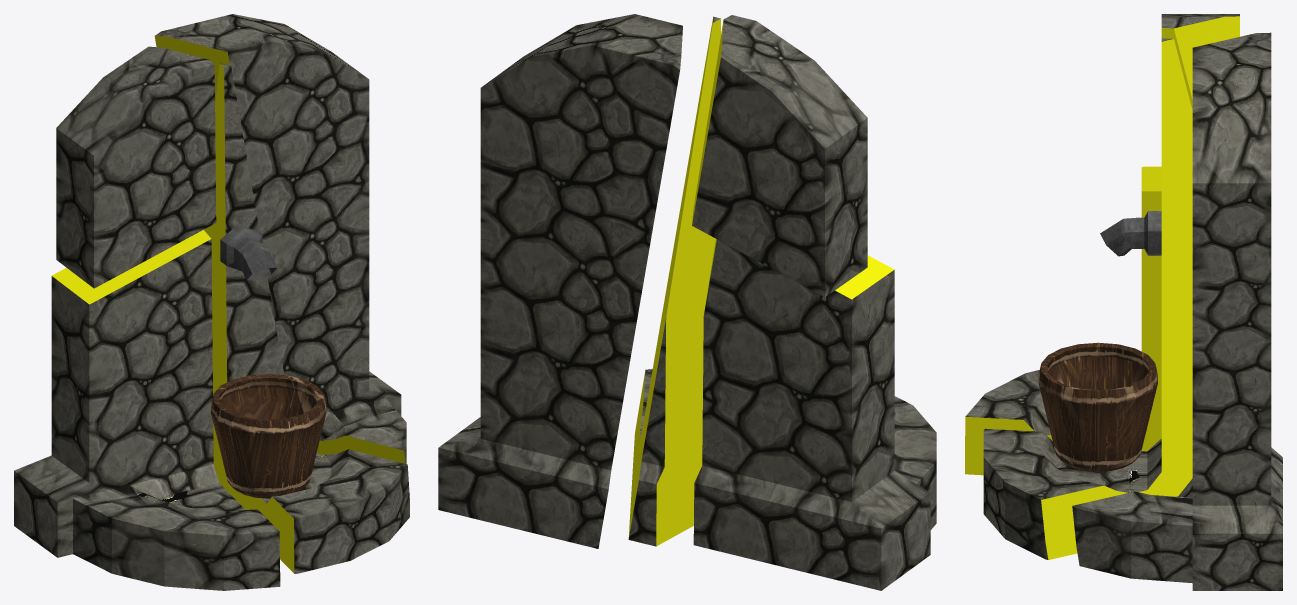
The model's file is fuenteRota.obj.
The picture shows the model from 3 angles, left to right: view 1: azimuth 30°, elevation 25°; view 2: azimuth 150°, elevation 25°; view 3: azimuth 270°, elevation 25°; orthographic projection. The views are drawn at different scales.
Visible parts, largest first — view 1: fuente_rota:polySurface10 fuente_rota:shard4 fuente_rota:solidSh, fuente_rota:polySurface10 fuente_rota:shard1 fuente_rota:solidSh, fuente_rota:polySurface10 fuente_rota:shard3 fuente_rota:solidSh, fuente_rota:polySurface10 fuente_rota:shard2 fuente_rota:solidSh, fuente_rota:polySurface10 fuente_rota:polySurface14 fuente_rota:, fuente_rota:polySurface10 fuente_rota:polySurface15 fuente_rota:; view 2: fuente_rota:polySurface10 fuente_rota:shard1 fuente_rota:solidSh, fuente_rota:polySurface10 fuente_rota:shard4 fuente_rota:solidSh, fuente_rota:polySurface10 fuente_rota:shard3 fuente_rota:solidSh, fuente_rota:polySurface10 fuente_rota:shard2 fuente_rota:solidSh; view 3: fuente_rota:polySurface10 fuente_rota:shard1 fuente_rota:solidSh, fuente_rota:polySurface10 fuente_rota:shard2 fuente_rota:solidSh, fuente_rota:polySurface10 fuente_rota:polySurface14 fuente_rota:, fuente_rota:polySurface10 fuente_rota:shard4 fuente_rota:solidSh, fuente_rota:polySurface10 fuente_rota:shard3 fuente_rota:solidSh, fuente_rota:polySurface10 fuente_rota:polySurface15 fuente_rota:.
Boxes of the visible parts, bbox=[...] form: fuente_rota:polySurface10 fuente_rota:shard4 fuente_rota:solidSh: bbox=[14, 230, 280, 590]; fuente_rota:polySurface10 fuente_rota:shard1 fuente_rota:solidSh: bbox=[154, 14, 406, 463]; fuente_rota:polySurface10 fuente_rota:shard3 fuente_rota:solidSh: bbox=[56, 46, 216, 288]; fuente_rota:polySurface10 fuente_rota:shard2 fuente_rota:solidSh: bbox=[204, 63, 409, 573]; fuente_rota:polySurface10 fuente_rota:polySurface14 fuente_rota:: bbox=[211, 374, 326, 498]; fuente_rota:polySurface10 fuente_rota:polySurface15 fuente_rota:: bbox=[220, 224, 277, 280]; fuente_rota:polySurface10 fuente_rota:shard1 fuente_rota:solidSh: bbox=[438, 14, 682, 548]; fuente_rota:polySurface10 fuente_rota:shard4 fuente_rota:solidSh: bbox=[693, 239, 936, 590]; fuente_rota:polySurface10 fuente_rota:shard3 fuente_rota:solidSh: bbox=[692, 15, 867, 296]; fuente_rota:polySurface10 fuente_rota:shard2 fuente_rota:solidSh: bbox=[628, 16, 720, 546]; fuente_rota:polySurface10 fuente_rota:shard1 fuente_rota:solidSh: bbox=[1072, 32, 1282, 590]; fuente_rota:polySurface10 fuente_rota:shard2 fuente_rota:solidSh: bbox=[983, 38, 1192, 559]; fuente_rota:polySurface10 fuente_rota:polySurface14 fuente_rota:: bbox=[1038, 342, 1157, 471]; fuente_rota:polySurface10 fuente_rota:shard4 fuente_rota:solidSh: bbox=[965, 166, 1161, 475]; fuente_rota:polySurface10 fuente_rota:shard3 fuente_rota:solidSh: bbox=[1161, 14, 1239, 109]; fuente_rota:polySurface10 fuente_rota:polySurface15 fuente_rota:: bbox=[1100, 211, 1161, 256].
Size of the model in its own units: 1.68 by 1.94 by 1.21.
2 materials, 1 textured.
